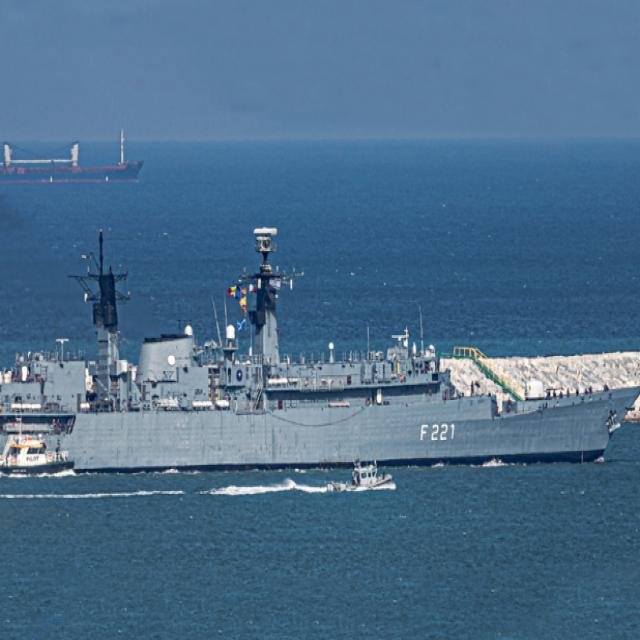Fragata: (1, 191, 640, 484)
